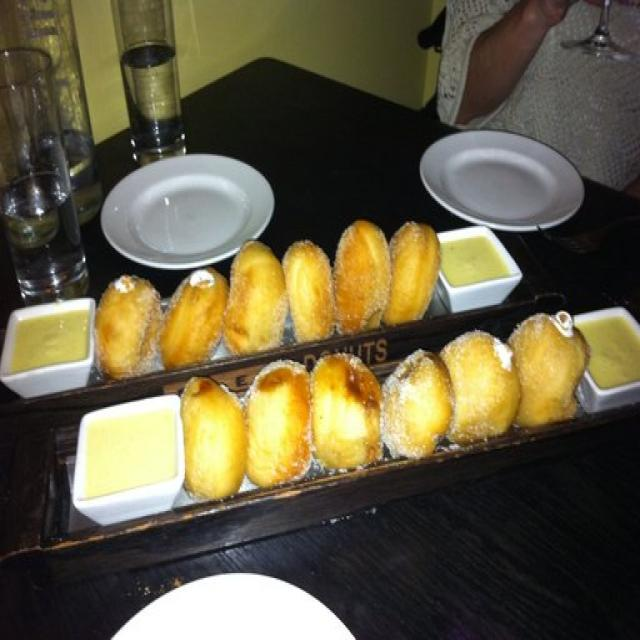Donuts: (73, 251, 595, 475)
